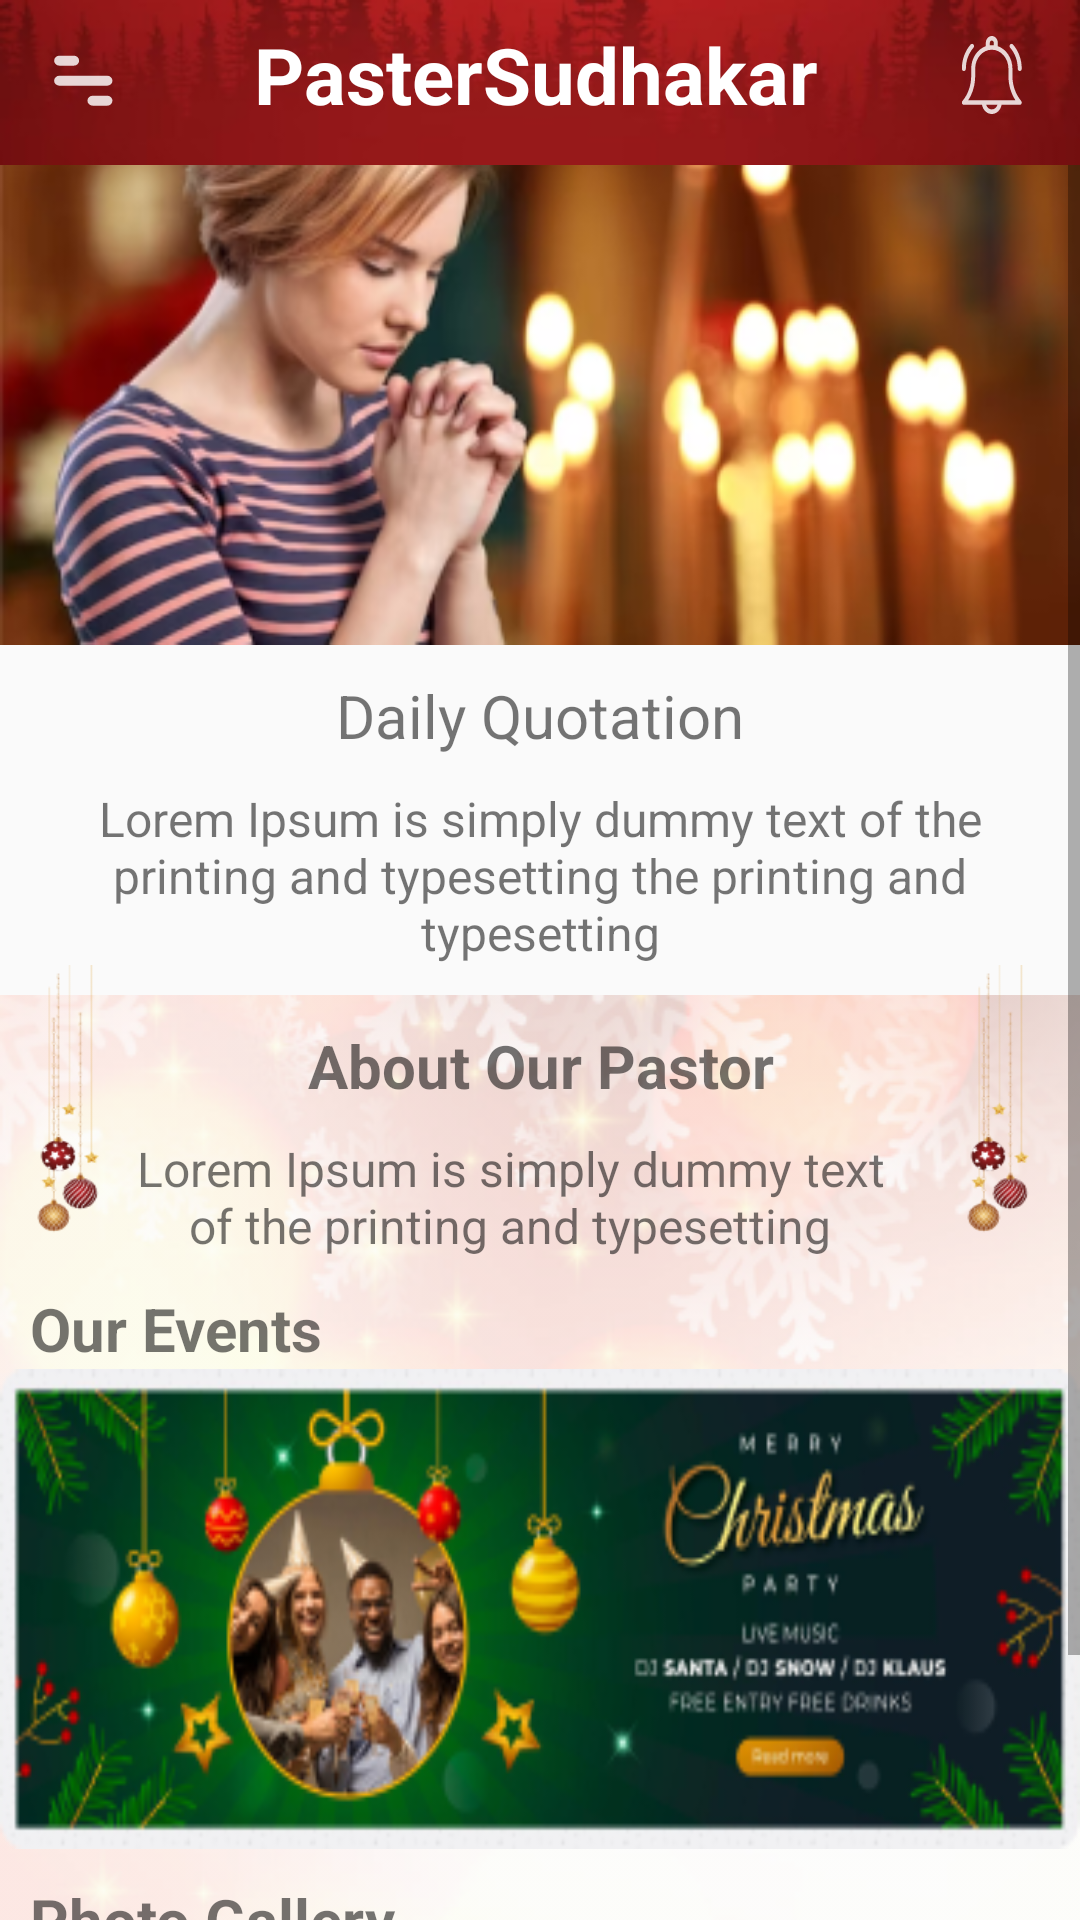

Locate icon controls on the screen. Image size 1080x1920, boxes as [x1=x1, y1=y1, x2=x2, y2=y2].
dec: [x1=0, y1=965, x2=150, y2=1265], [x1=938, y1=965, x2=1029, y2=1232]
notification: [x1=962, y1=36, x2=1022, y2=114]
